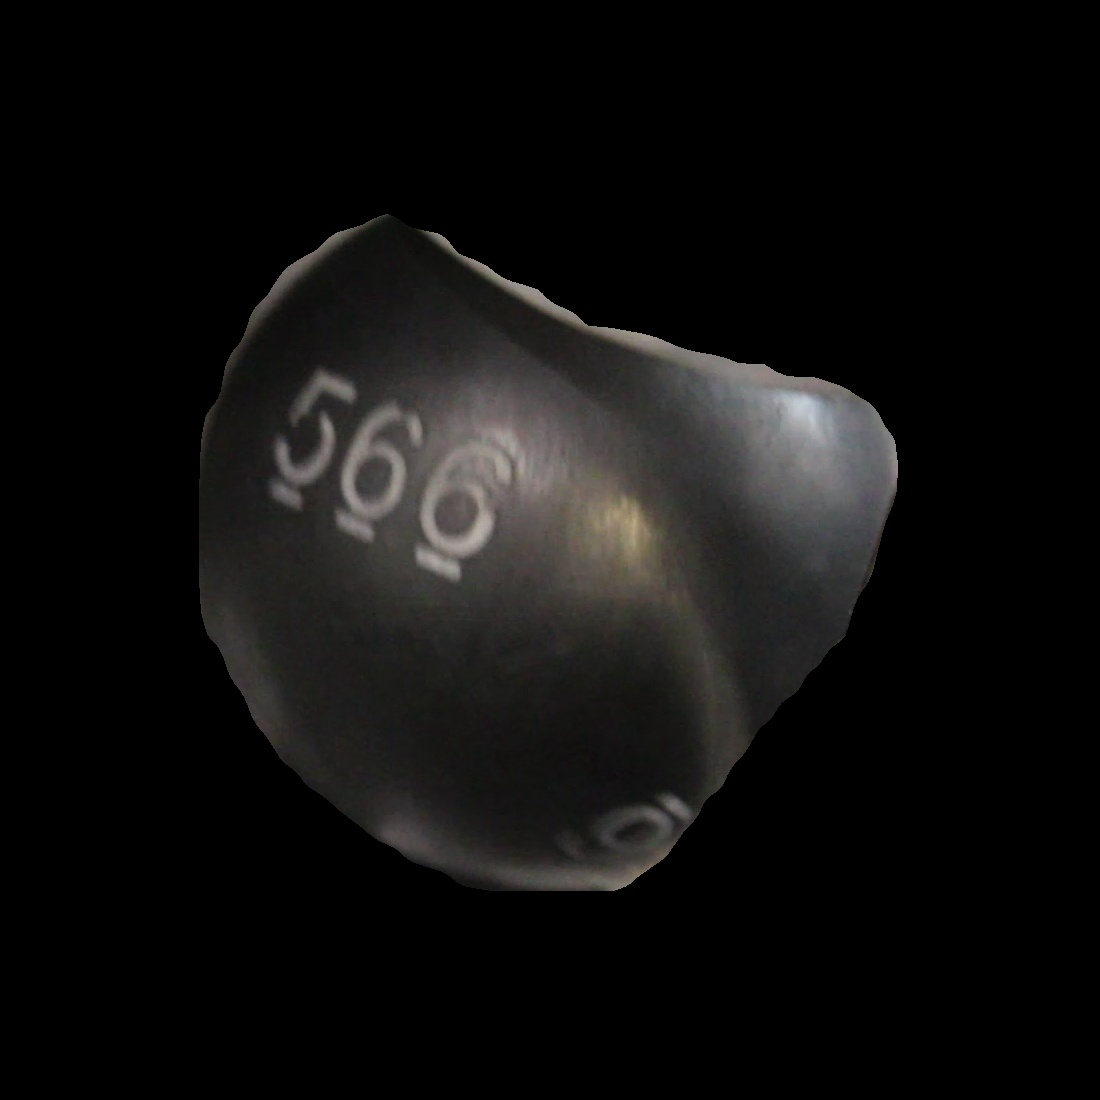digits: (267, 351, 522, 591)
